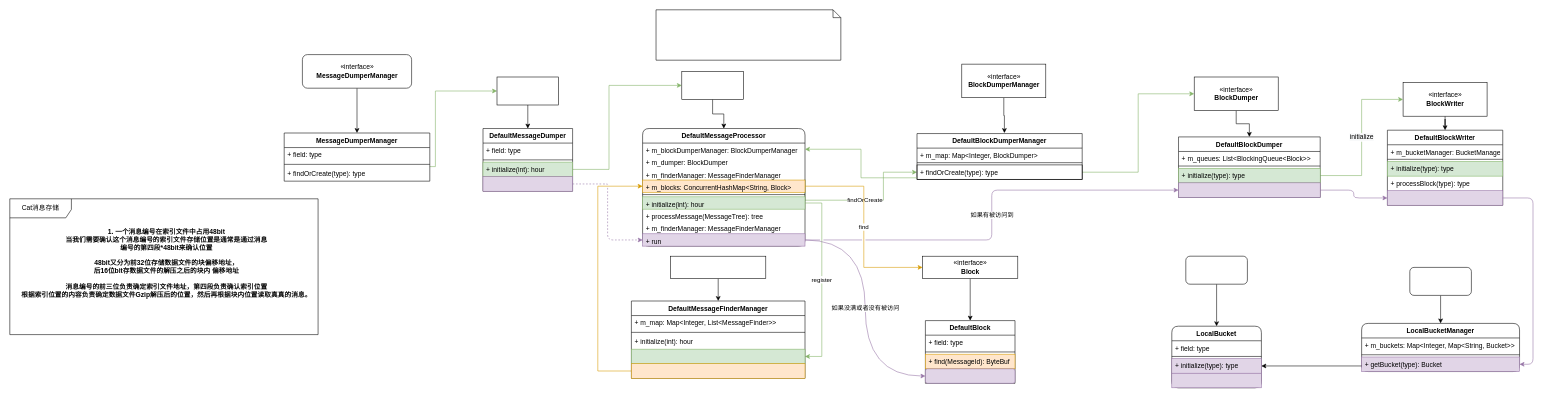
The diagram is 1547 pixels wide and 399 high, and some of its shapes have lost their labels. Here are the shapes that lost their labels. From the top down, the centre of each, then its label:
At (x=748, y=34): "1. 初始化 DefaultBlockDumperManager对象 2. 注册到 MessageFinderManager对象中".
At (x=527, y=90): "«interface» MessageDumper".
At (x=712, y=85): "«interface» MessageProcessor".
At (x=527, y=183): "+ process(MessageTree)".
At (x=1249, y=189): "+ dump(Block)".
At (x=1445, y=197): "+ run(type): type".
At (x=718, y=267): "«interface» MessageFinderManager".
At (x=1216, y=270): "«interface» Bucket".
At (x=1440, y=281): "«interface» BucketManager".
At (x=718, y=356): "+ register(int): hour".
At (x=718, y=370): "+ find(int): hour".
At (x=970, y=375): "+ pack(MessageId,ByteBuf)".
At (x=1216, y=380): "+ puts(type): type".
